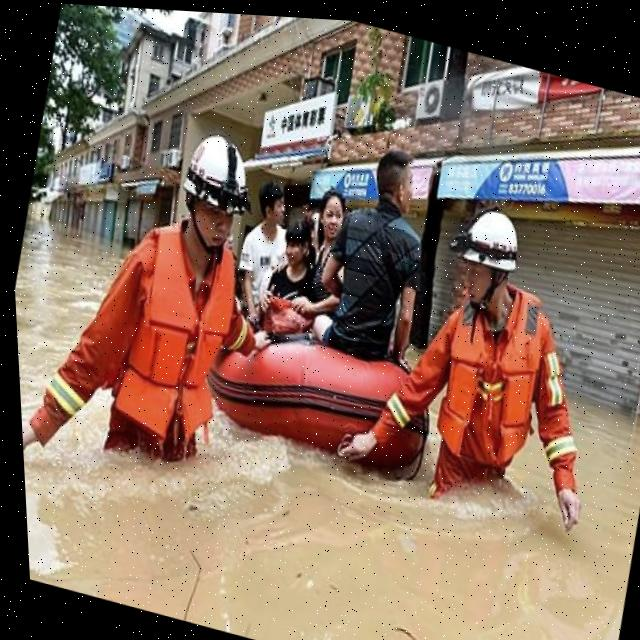civilian: (295, 126, 458, 389), (214, 165, 316, 344), (282, 174, 368, 337), (248, 202, 336, 361)
rescuer: (4, 68, 324, 530), (318, 168, 640, 574)
